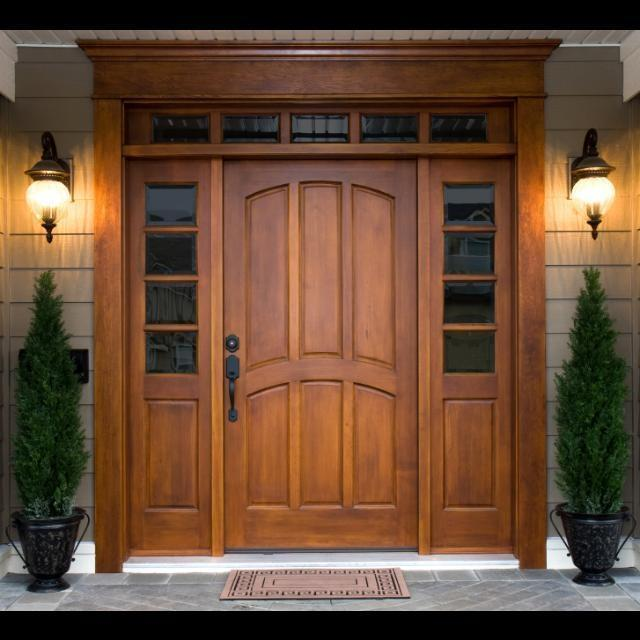door: (219, 158, 426, 552)
